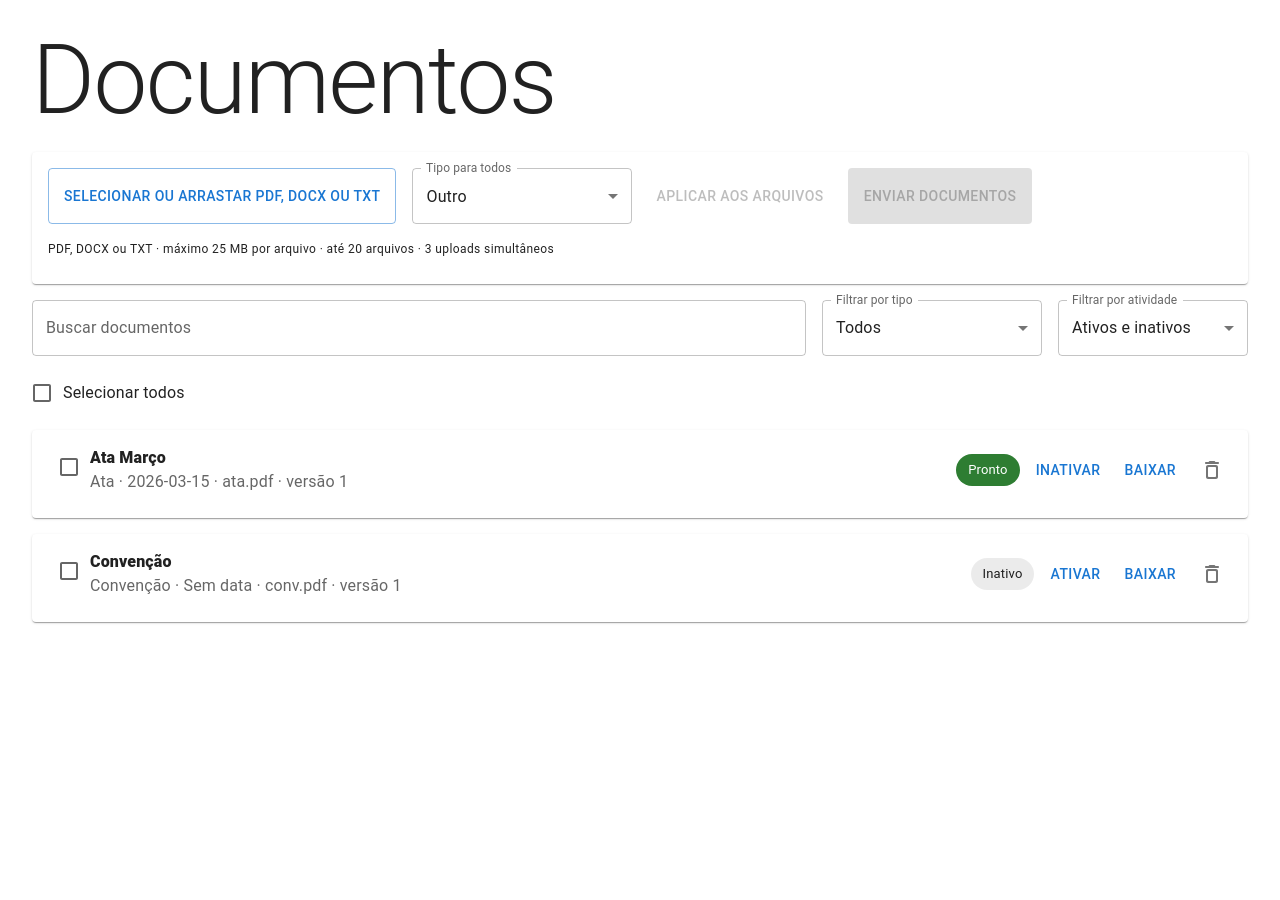
it: CondominiumDocumentsPage batch upload › shows Portuguese type/status labels and filters by name and type
The image size is (1280, 900).
Check: the text "Ata Março" is shown, box [90,448,166,467]
Check: the text "Ata · 2026-03-15 · ata.pdf · versão 1" is shown, box [90,470,348,494]
Type "Março" into the field labelled "Buscar documentos" at x=419, y=328, box [32,300,806,356]
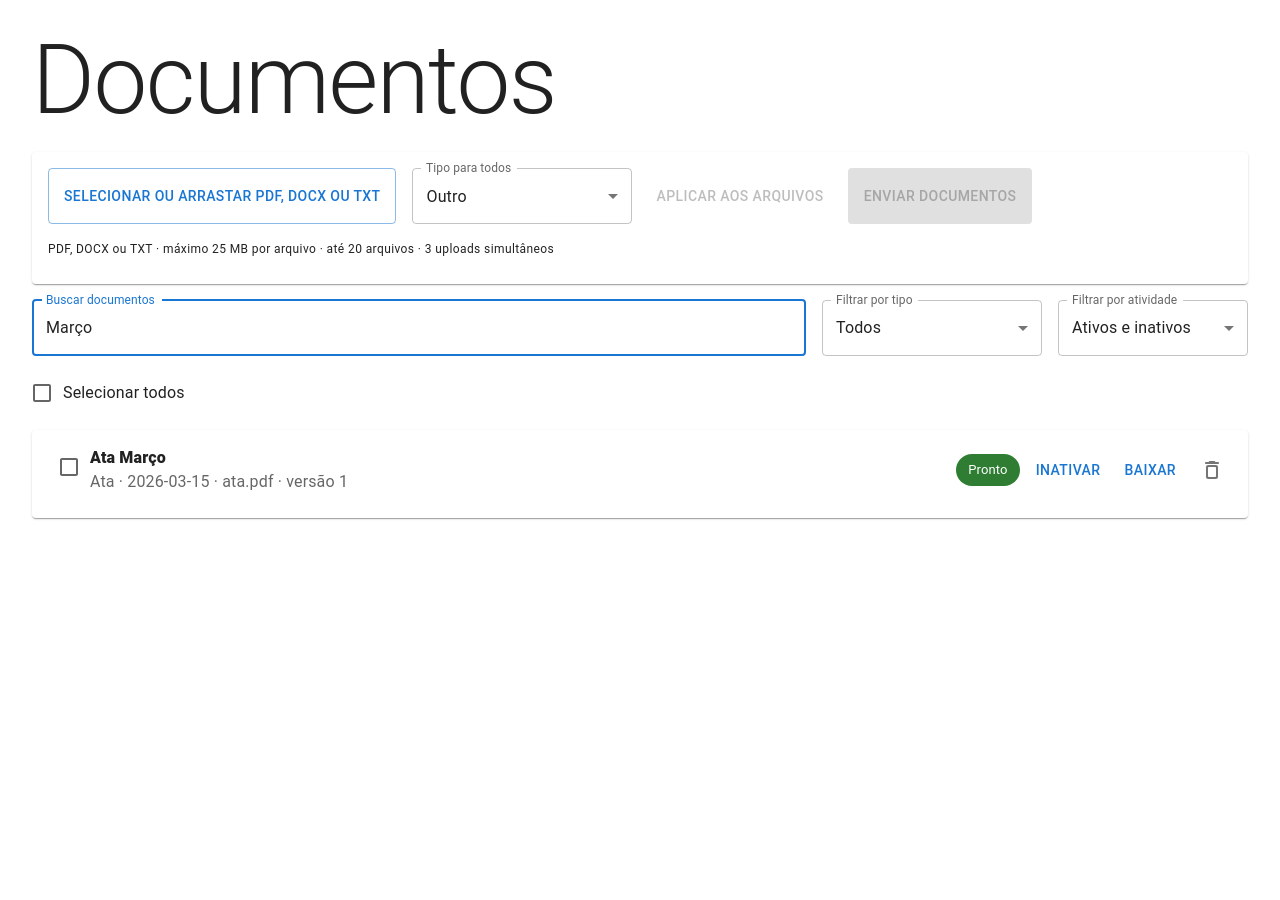
Check: the text "Convenção" is gone
Clear the field labelled "Buscar documentos" at x=419, y=328, box [32,300,806,356]
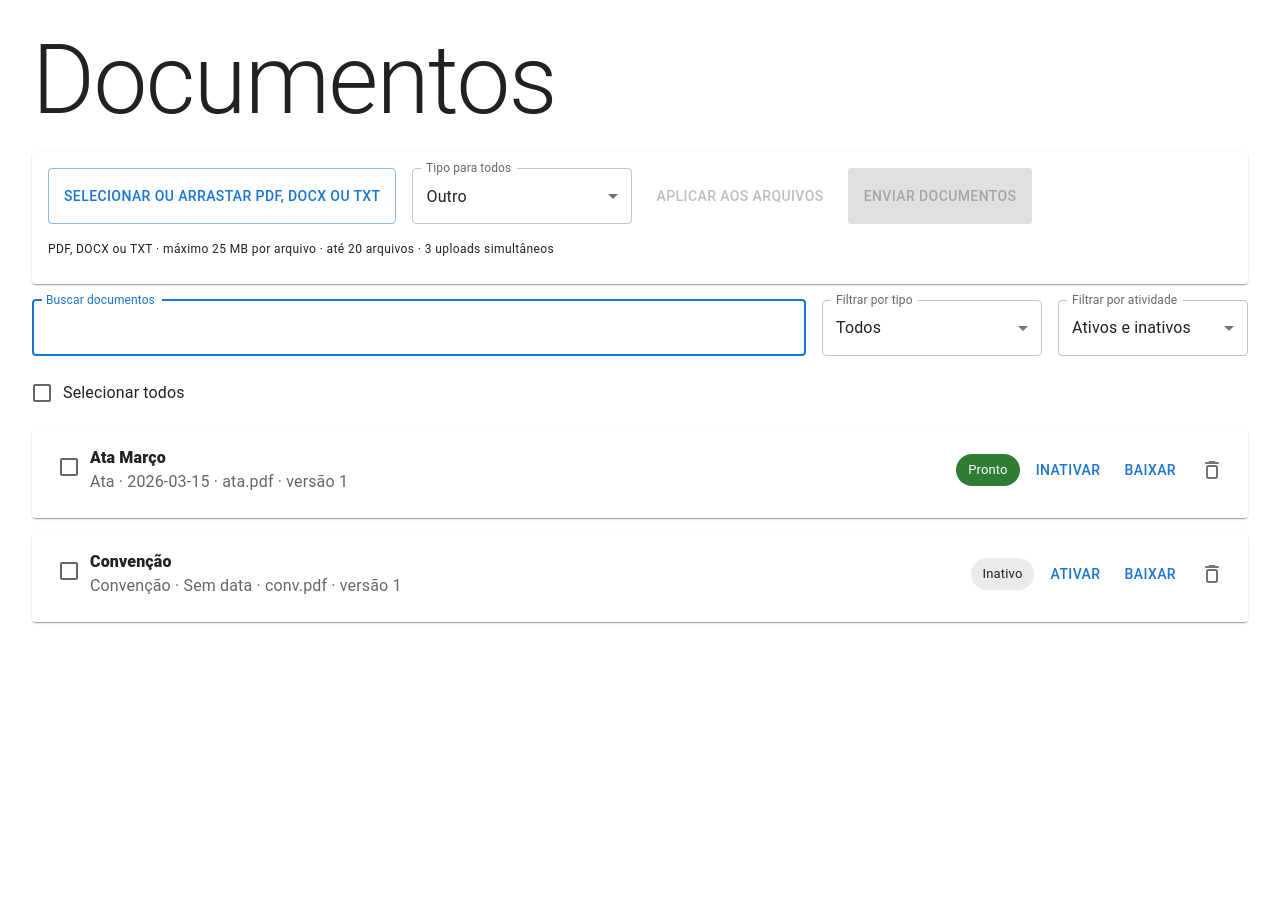
Click the dropdown named "Filtrar por tipo" at x=859, y=328, box [836,318,881,337]
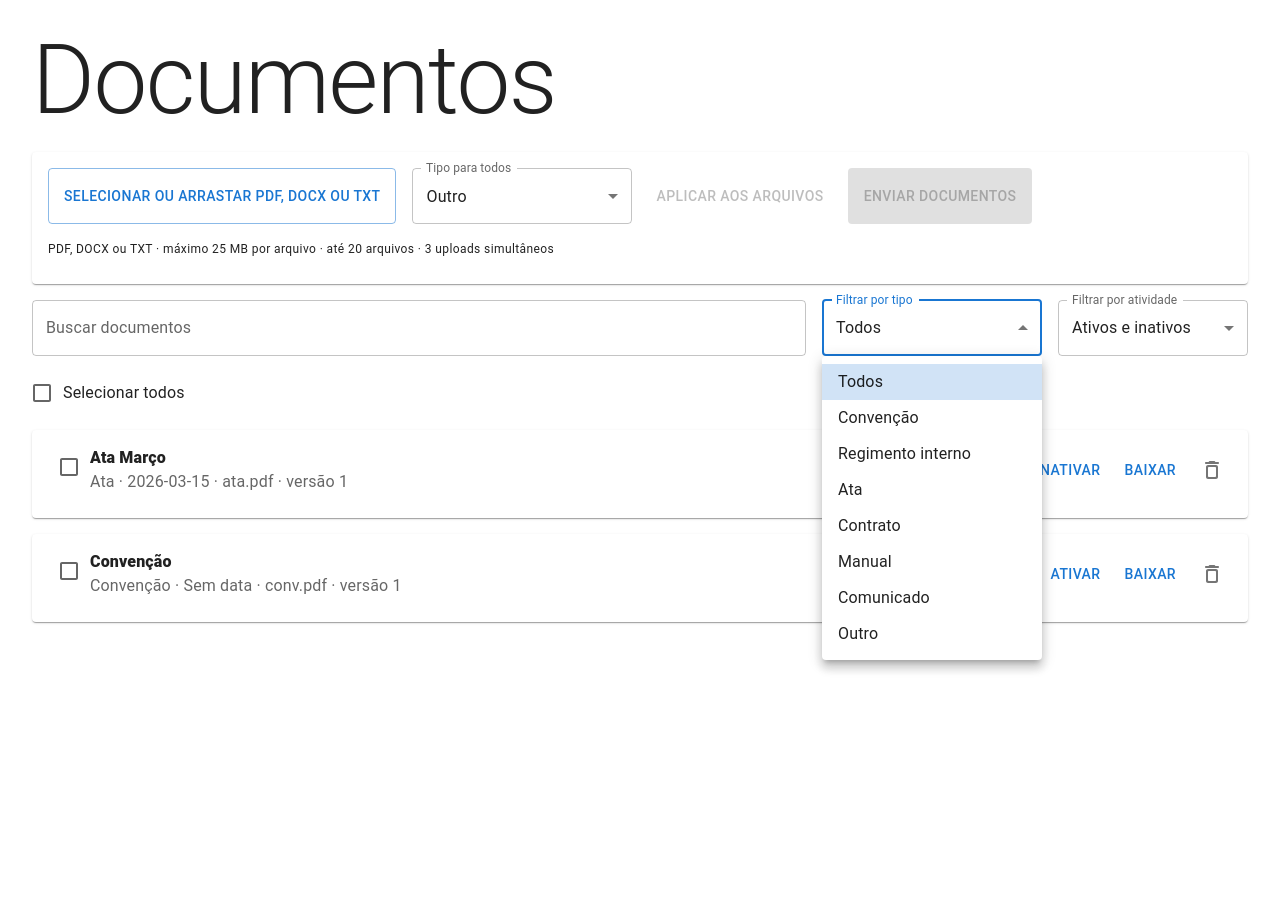
Click the option "Convenção" at x=878, y=418, box [838,408,919,427]
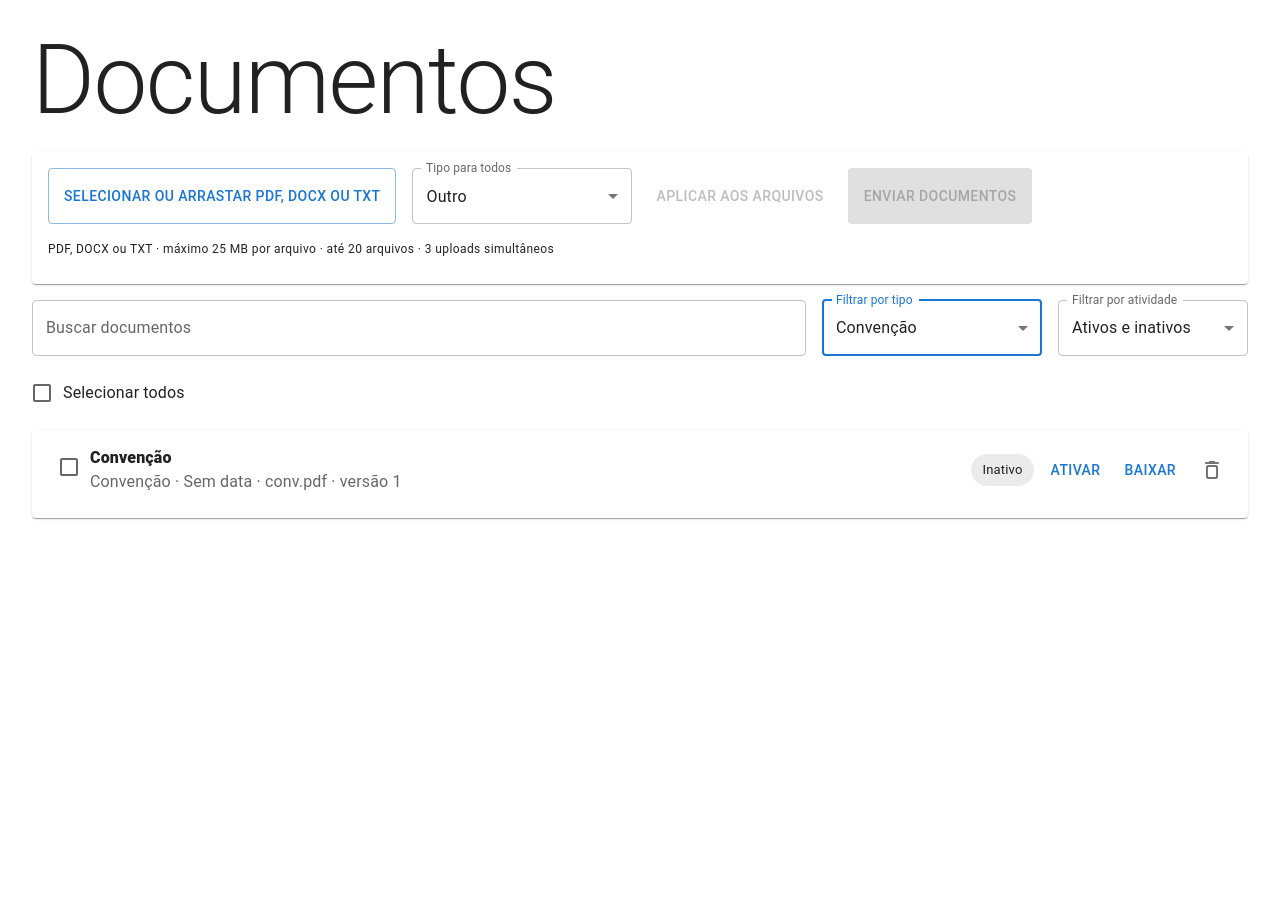
Check: the text "Ata Março" is gone
